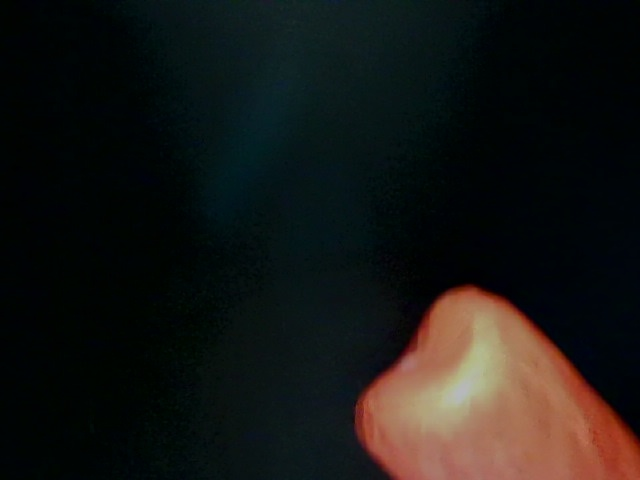CYLJ: (466, 1, 637, 302)
